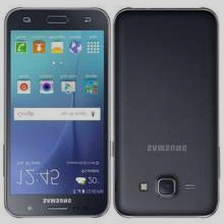phone: (0, 3, 113, 223), (110, 4, 223, 222)
